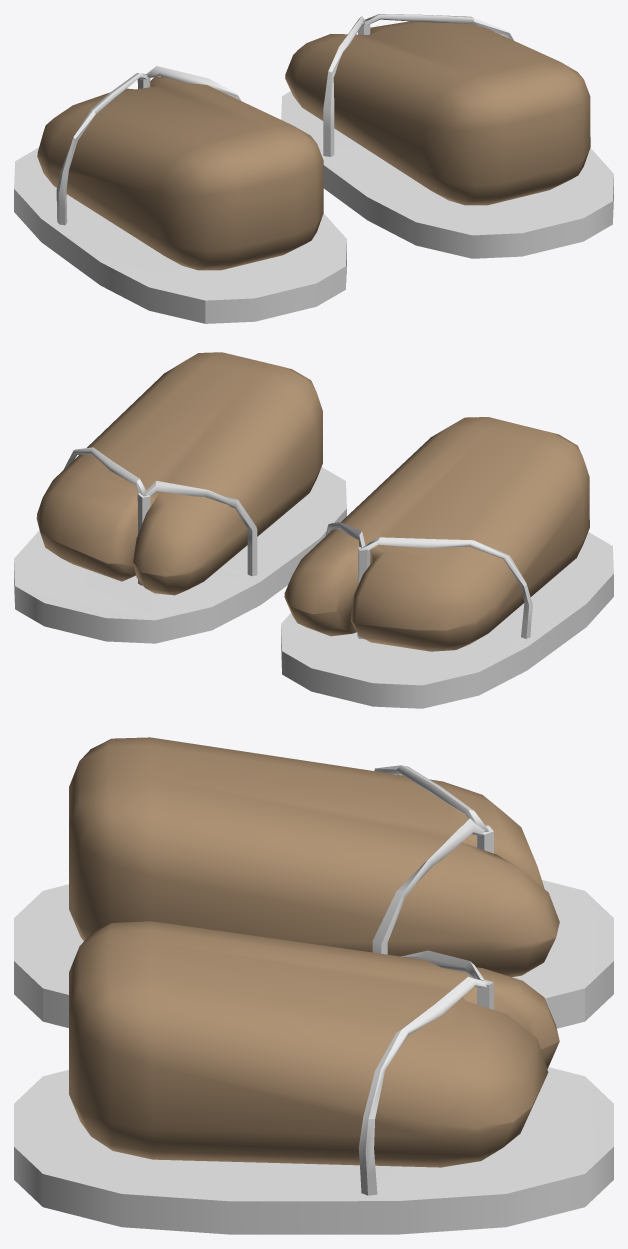
The model's file is shoes-flipflops.fbx.
3 views of the same model, one above another, from view 1: azimuth 30°, elevation 25°; view 2: azimuth 150°, elevation 25°; view 3: azimuth 270°, elevation 25° (orthographic). The views are drawn at different scales.
Parts seen in each view (by area): view 1: Cube.005, Cube.006, Cube.009, Cube.007; view 2: Cube.006, Cube.005, Cube.009, Cube.007; view 3: Cube.005, Cube.006, Cube.007, Cube.009.
Part boxes in pixels (left/top/right/bottom): Cube.005: left=285, top=21, right=590, bottom=205; Cube.006: left=37, top=76, right=323, bottom=270; Cube.009: left=14, top=66, right=346, bottom=323; Cube.007: left=281, top=14, right=613, bottom=258; Cube.006: left=284, top=417, right=589, bottom=651; Cube.005: left=36, top=352, right=322, bottom=595; Cube.009: left=281, top=522, right=613, bottom=708; Cube.007: left=14, top=447, right=346, bottom=643; Cube.005: left=69, top=921, right=559, bottom=1167; Cube.006: left=69, top=737, right=559, bottom=977; Cube.007: left=14, top=950, right=613, bottom=1234; Cube.009: left=14, top=765, right=613, bottom=1028.
Bounding box in the file's own units: 229 × 65.16 × 171.
